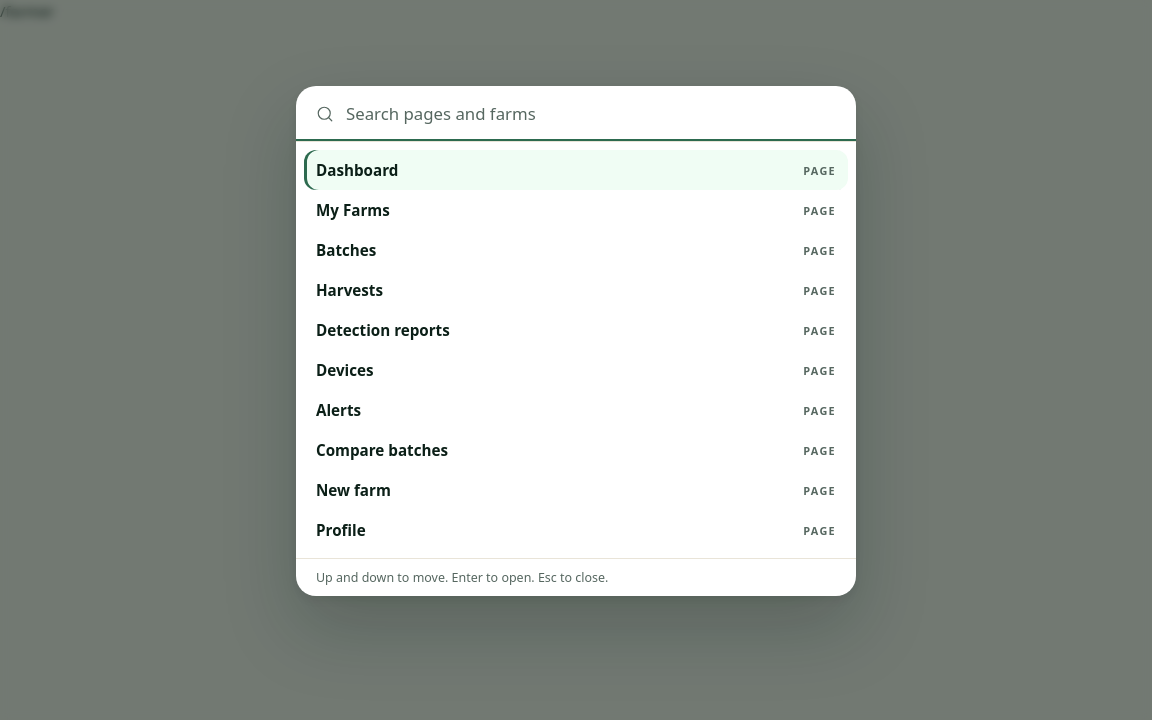
Test case: searching › says so when nothing matches, and keeps the list empty
Type "zzzz" into the dropdown named "Quick search". click: [591, 114]
box: x1=346 y1=102 x2=836 y2=125
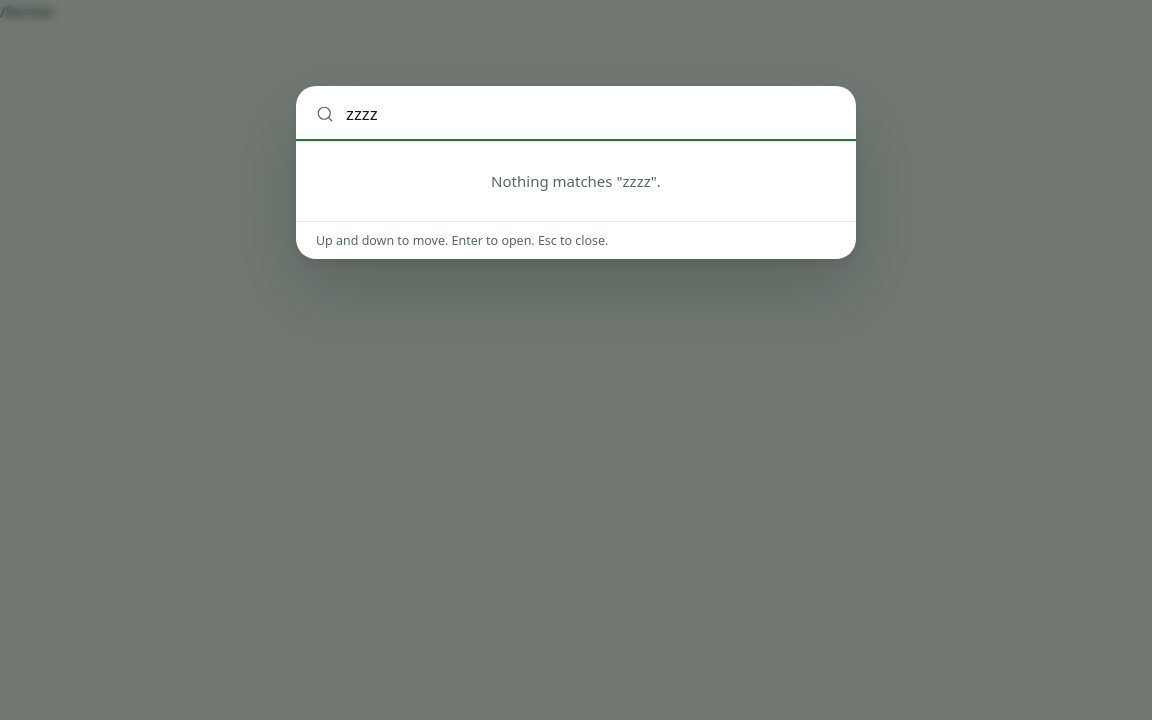
Now the option is gone
Now the text "Nothing matches \"zzzz\"." is shown, box x1=491 y1=171 x2=661 y2=191
